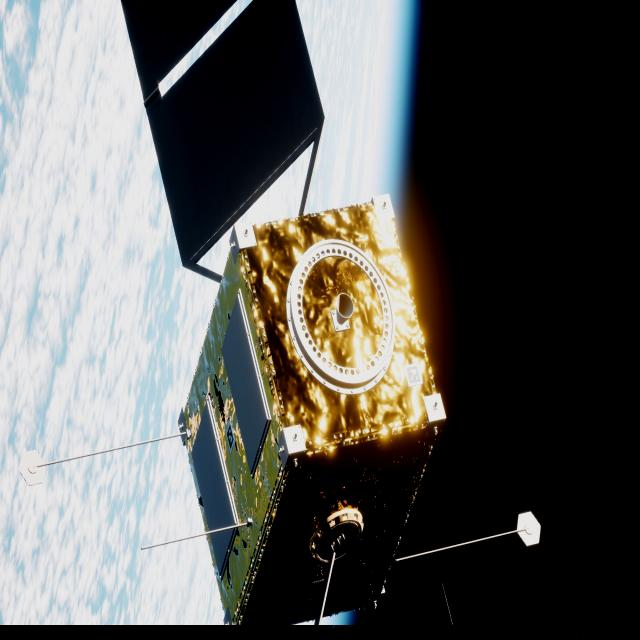satellite: (120, 0, 445, 626)
